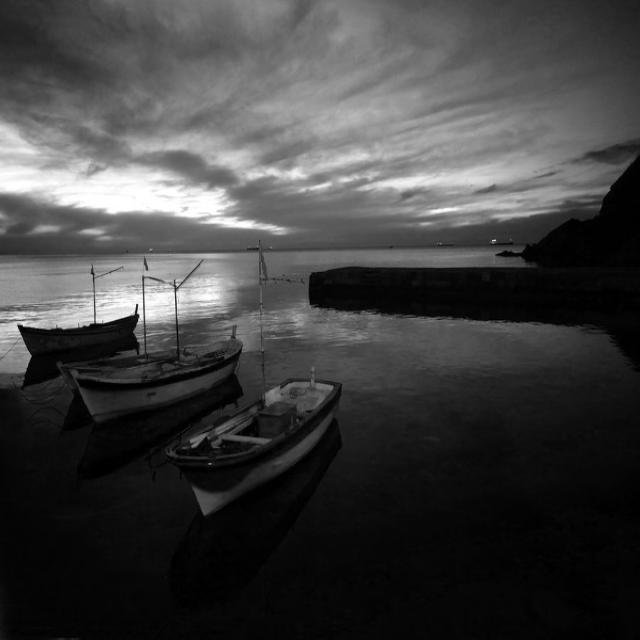Boat: (171, 356, 352, 556), (58, 319, 269, 458), (0, 269, 184, 419)
